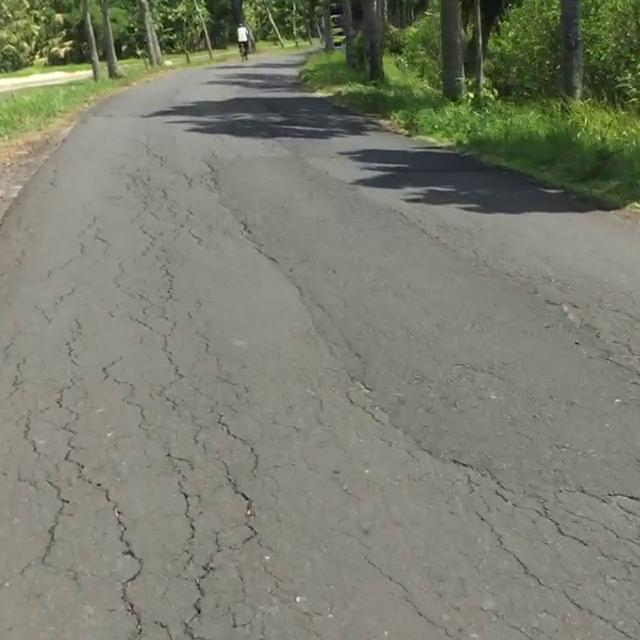retak_kulit_buaya: (32, 197, 257, 640), (474, 472, 640, 640)
